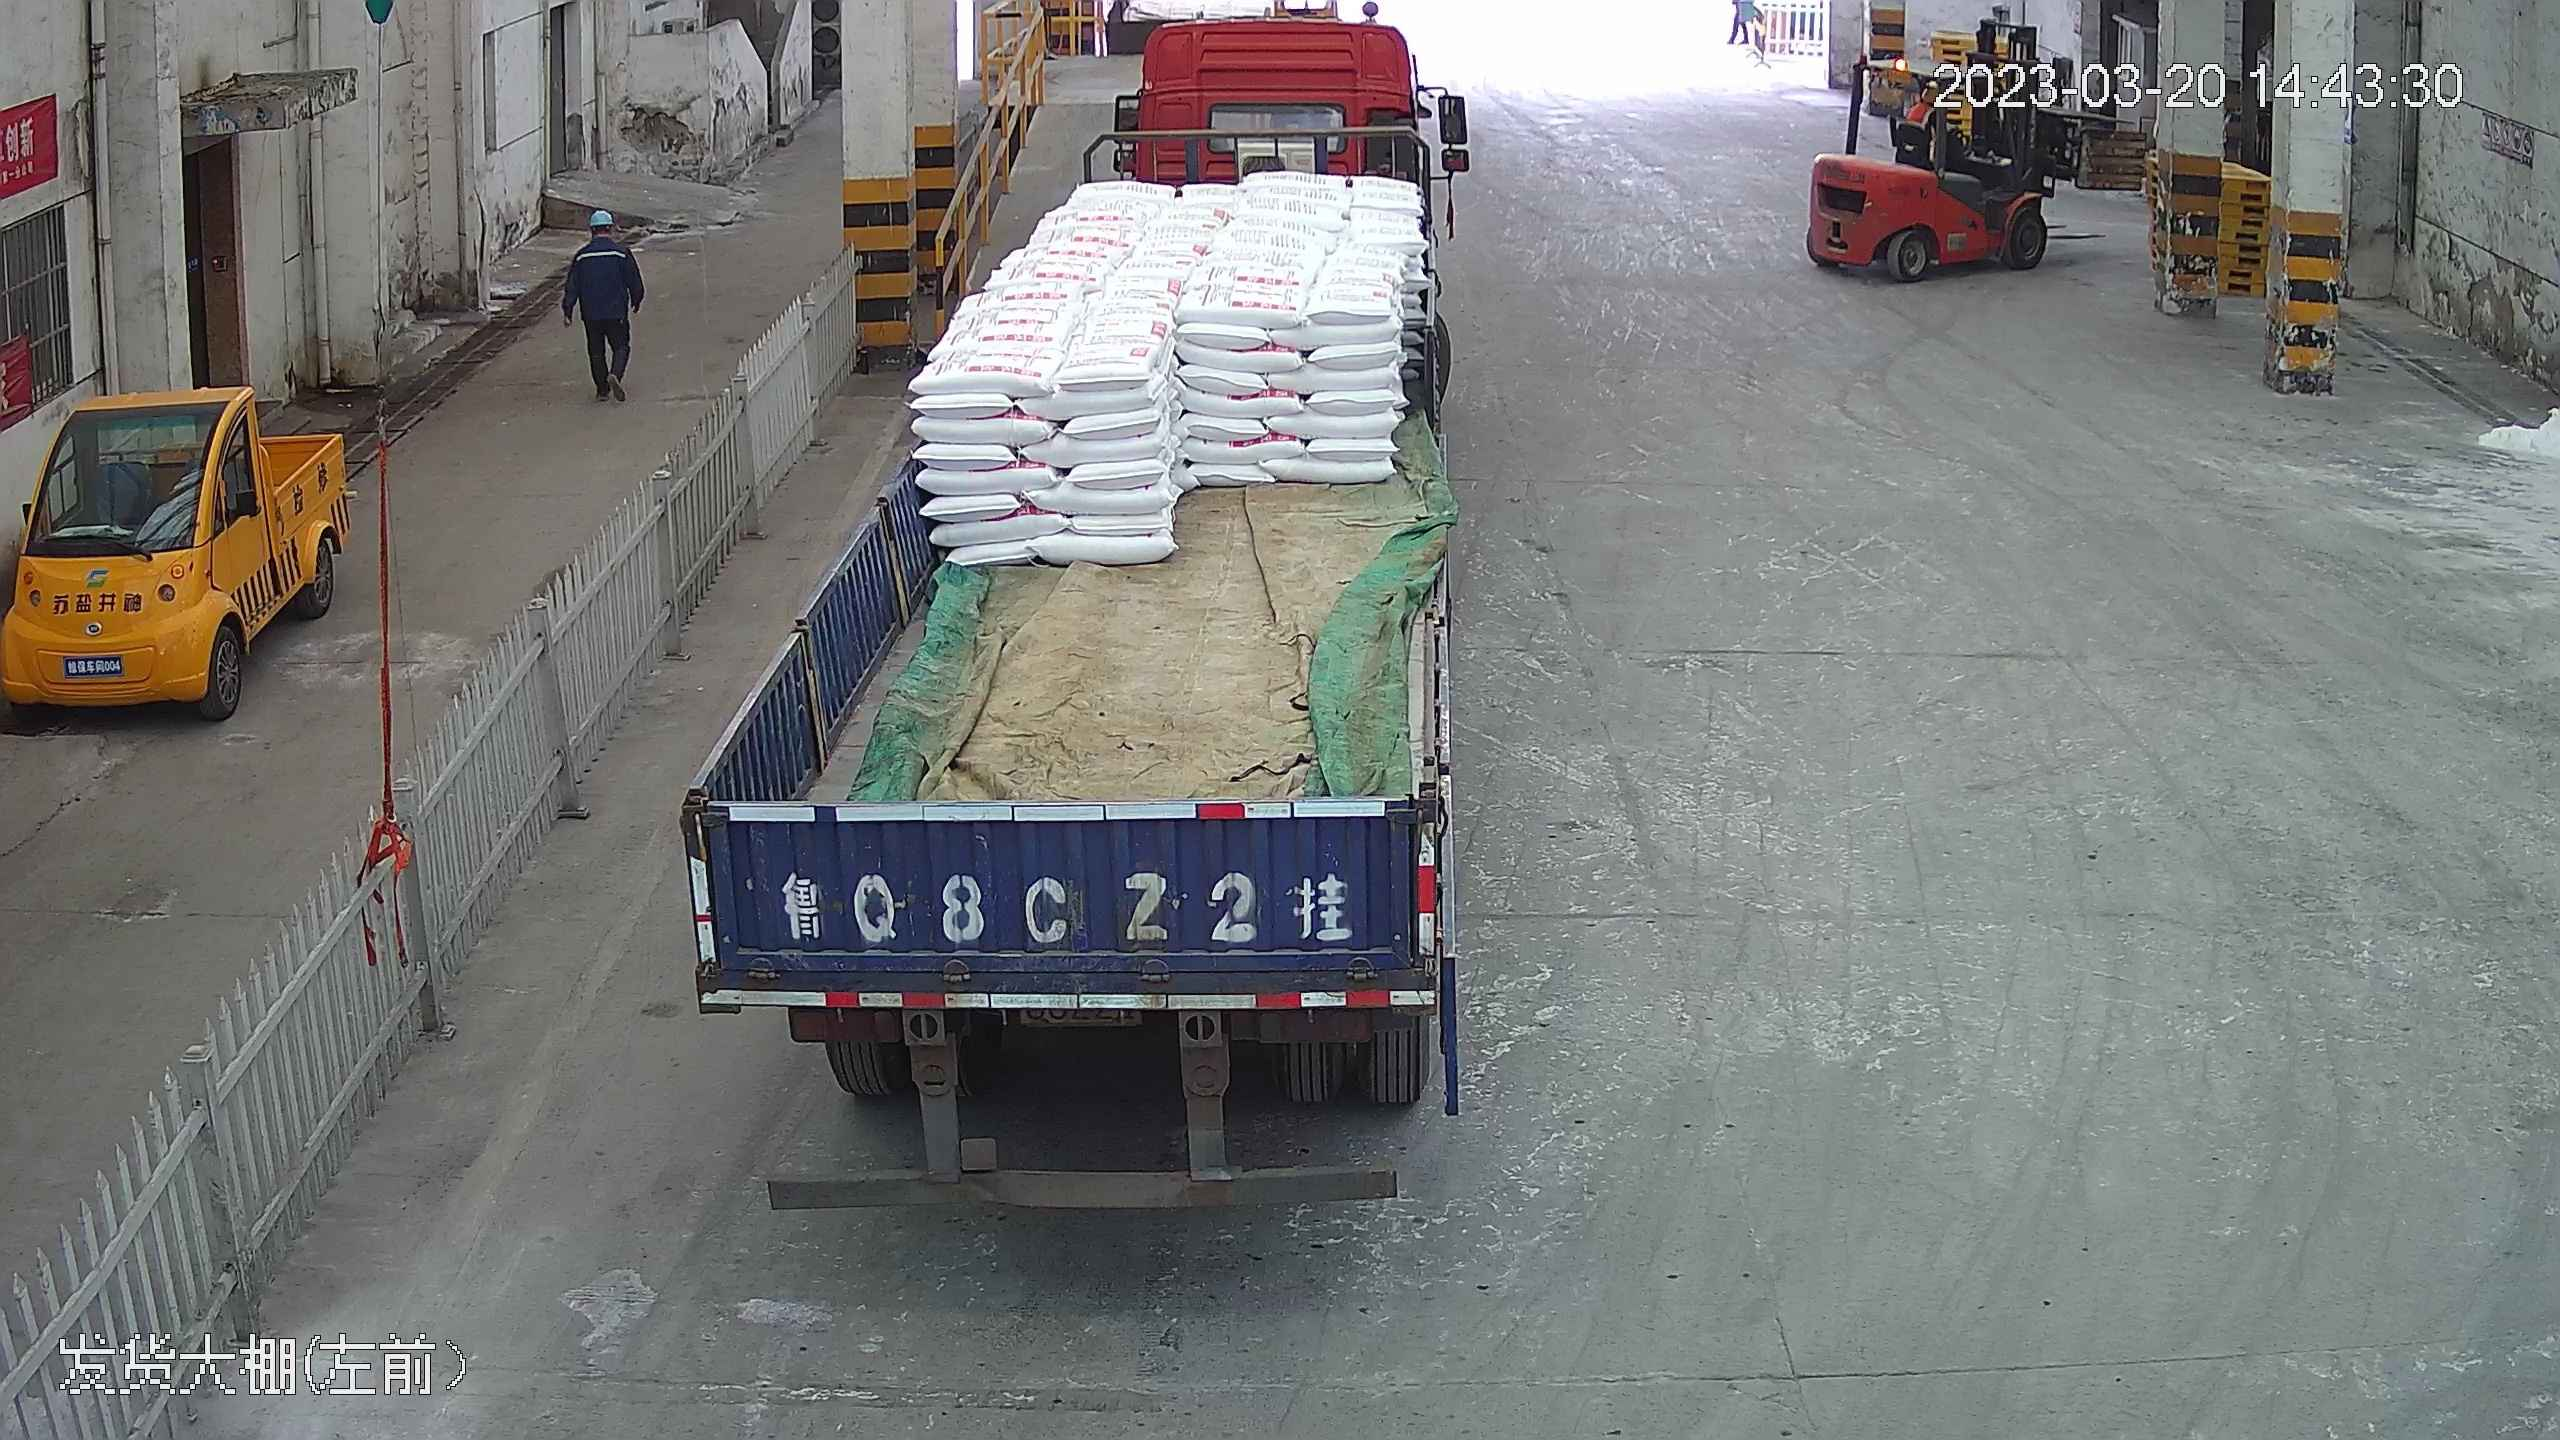head: (570, 202, 637, 266)
helmet: (586, 203, 617, 226)
people: (560, 199, 647, 404)
truck: (716, 0, 1479, 1206)
